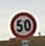limite 50: (9, 11, 36, 38)
